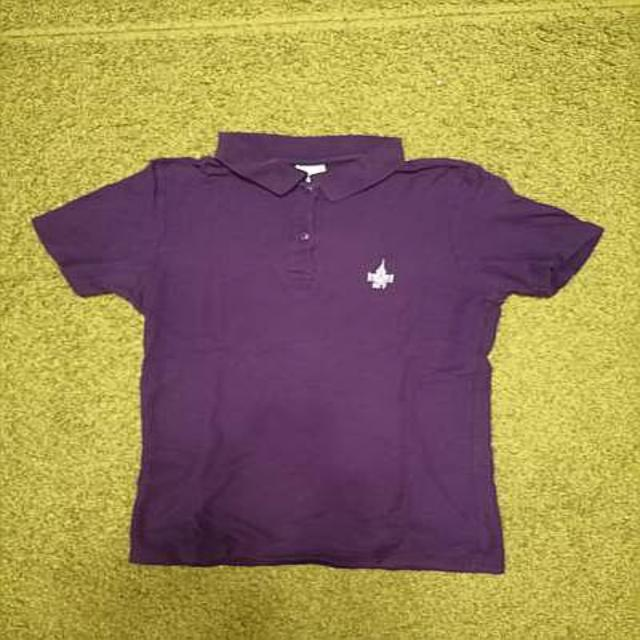T_SHIRT: (32, 112, 602, 583)
